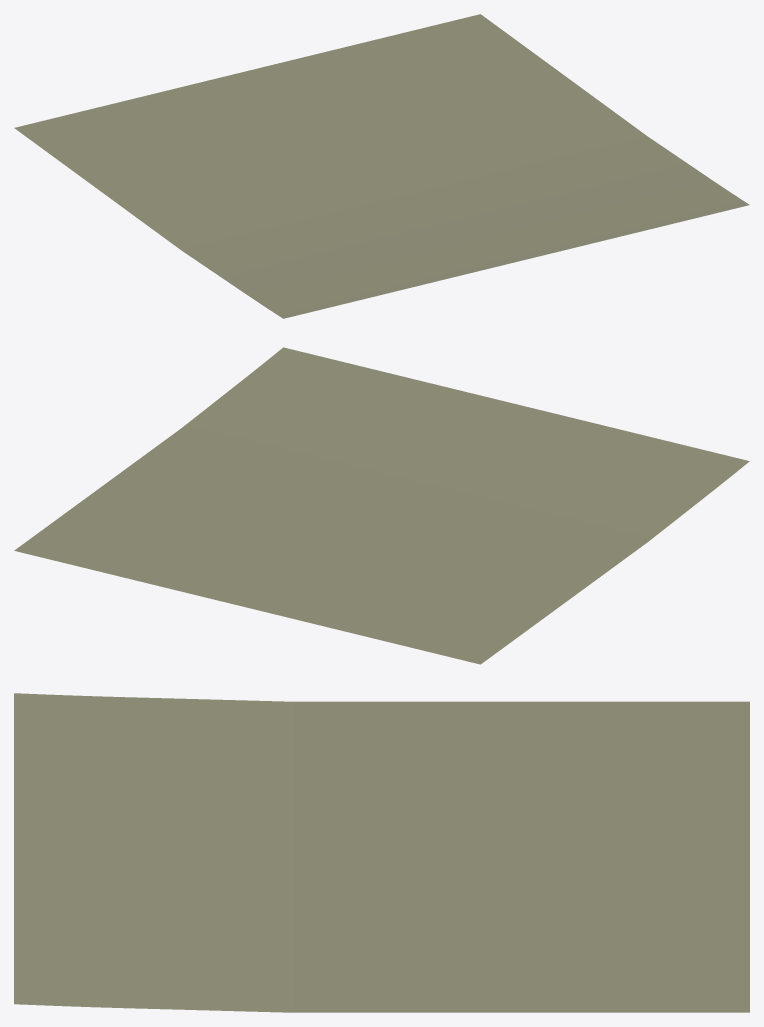
Rendered from SM_VB_CityTerrain_8_1.fbx.
3 renders of one model, top to bottom at view 1: azimuth 30°, elevation 25°; view 2: azimuth 150°, elevation 25°; view 3: azimuth 270°, elevation 25°, orthographic. The views are drawn at different scales.
Parts seen in each view (by area): view 1: SM_VB_CityTerrain_8_1; view 2: SM_VB_CityTerrain_8_1; view 3: SM_VB_CityTerrain_8_1.
Boxes of the visible parts, <box> form: SM_VB_CityTerrain_8_1: <box>14,14,749,318</box>; SM_VB_CityTerrain_8_1: <box>14,347,749,664</box>; SM_VB_CityTerrain_8_1: <box>14,693,749,1012</box>.
Bounding box in the file's own units: 600 × 7.66 × 600.
